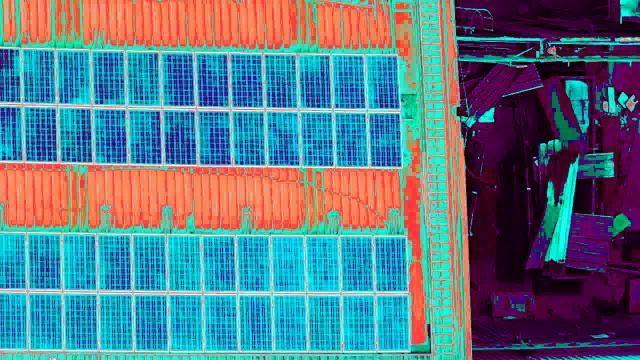dirty: (27, 234, 65, 291), (60, 233, 98, 290), (94, 233, 132, 290), (131, 236, 169, 293), (168, 234, 206, 291), (200, 237, 238, 294), (230, 235, 268, 292), (269, 236, 307, 293), (302, 234, 340, 291), (336, 237, 374, 294), (371, 235, 409, 292), (373, 294, 411, 351), (338, 293, 376, 350), (303, 293, 341, 350), (269, 294, 307, 351), (234, 294, 272, 351), (196, 295, 234, 352), (165, 295, 203, 352), (134, 294, 172, 351), (95, 292, 133, 349), (65, 291, 103, 348), (29, 295, 67, 352), (1, 293, 27, 352), (1, 230, 27, 289)
semi: (18, 47, 57, 107), (53, 46, 92, 106), (89, 48, 128, 108), (122, 46, 161, 106), (158, 48, 197, 108), (191, 48, 230, 108), (234, 52, 273, 112), (265, 50, 304, 110), (297, 53, 336, 113), (328, 51, 367, 111), (364, 52, 403, 112), (368, 107, 407, 167), (330, 111, 369, 171), (295, 111, 334, 171), (263, 106, 302, 166), (229, 108, 268, 168), (190, 106, 229, 166), (158, 106, 197, 166), (128, 108, 167, 168), (90, 108, 129, 168), (56, 106, 95, 166), (21, 104, 60, 164)
